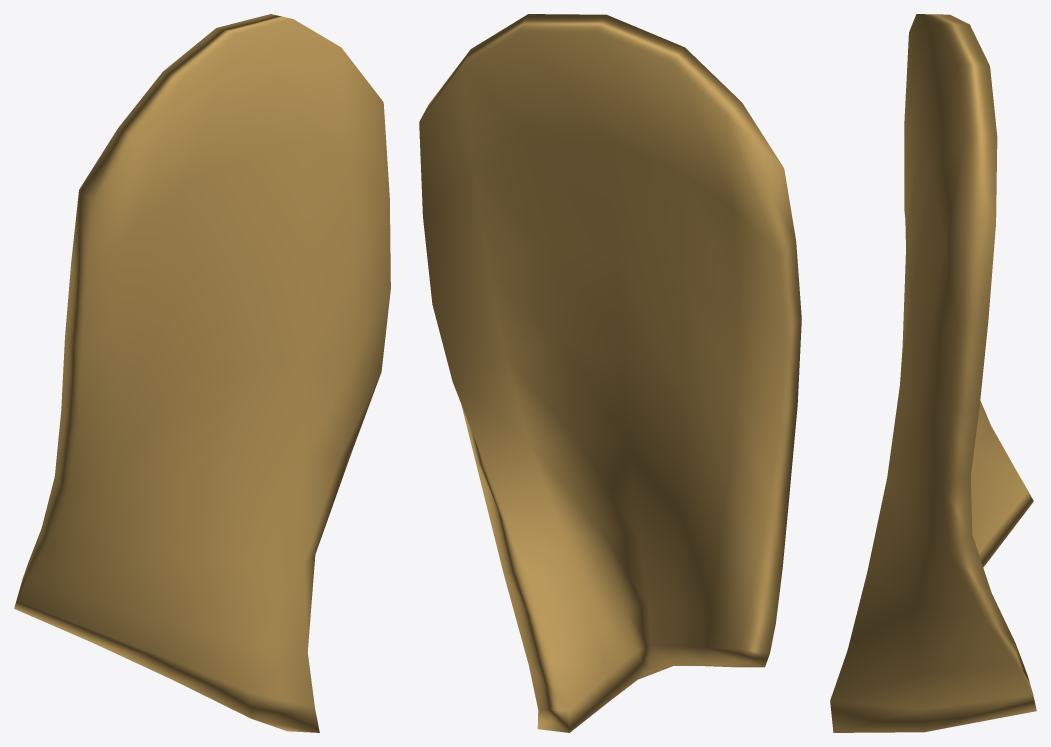
The picture shows the model from 3 angles, left to right: view 1: azimuth 30°, elevation 25°; view 2: azimuth 150°, elevation 25°; view 3: azimuth 270°, elevation 25°; orthographic projection. The views are drawn at different scales.
Visible parts, largest first — view 1: 右侧外侧半月板前半月板胫骨韧带; view 2: 右侧外侧半月板前半月板胫骨韧带; view 3: 右侧外侧半月板前半月板胫骨韧带.
Boxes of the visible parts, x1,y1,x2,y2 form: 右侧外侧半月板前半月板胫骨韧带: (14,14,390,732); 右侧外侧半月板前半月板胫骨韧带: (419,14,801,732); 右侧外侧半月板前半月板胫骨韧带: (830,14,1036,732).
Bounding box in the file's own units: 0.00912 × 0.0167 × 0.0045.
